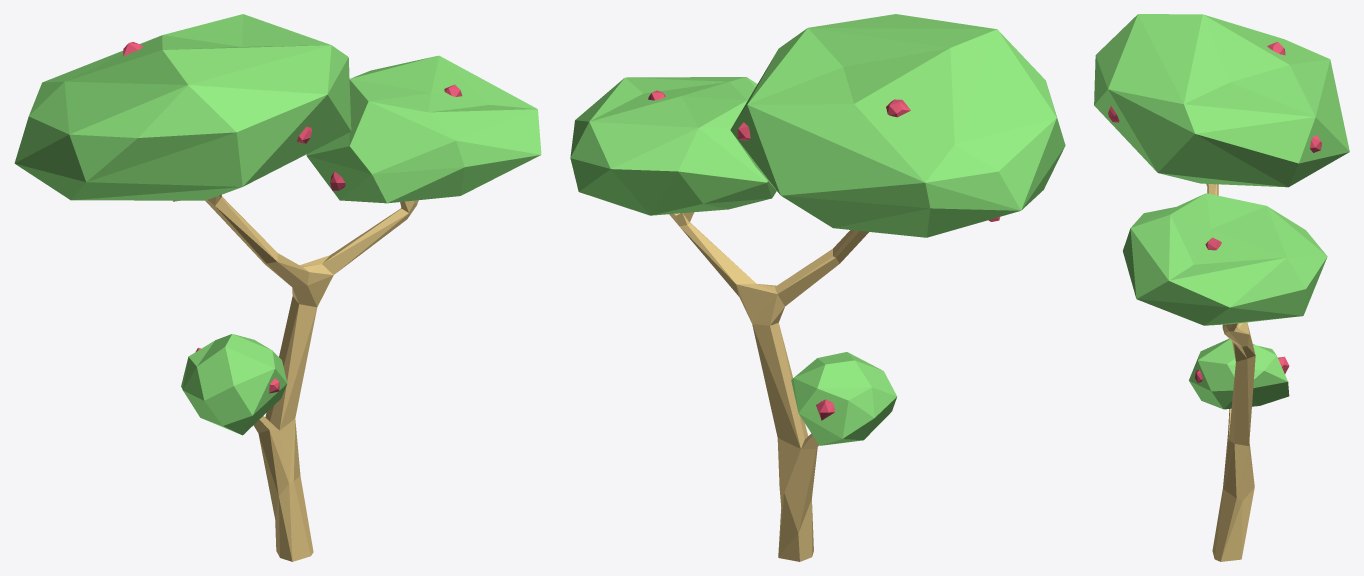
Rendered from tree_003.fbx.
3 renders of one model, left to right at view 1: azimuth 30°, elevation 25°; view 2: azimuth 150°, elevation 25°; view 3: azimuth 270°, elevation 25°, orthographic. The views are drawn at different scales.
Visible parts, largest first — view 1: Tree_003_Crown_LOD0, Tree_003_LOD0, Tree_003_Berries_LOD0; view 2: Tree_003_Crown_LOD0, Tree_003_LOD0, Tree_003_Berries_LOD0; view 3: Tree_003_Crown_LOD0, Tree_003_LOD0, Tree_003_Berries_LOD0.
Boxes of the visible parts, <box> form: Tree_003_Crown_LOD0: <box>14,14,541,435</box>; Tree_003_LOD0: <box>173,194,418,561</box>; Tree_003_Berries_LOD0: <box>123,42,462,393</box>; Tree_003_Crown_LOD0: <box>570,14,1065,445</box>; Tree_003_LOD0: <box>669,212,868,561</box>; Tree_003_Berries_LOD0: <box>648,90,1000,420</box>; Tree_003_Crown_LOD0: <box>1094,14,1349,409</box>; Tree_003_LOD0: <box>1206,184,1255,561</box>; Tree_003_Berries_LOD0: <box>1108,41,1321,382</box>.
Size of what is drawn, in the model's own units: 515 by 559 by 271.
